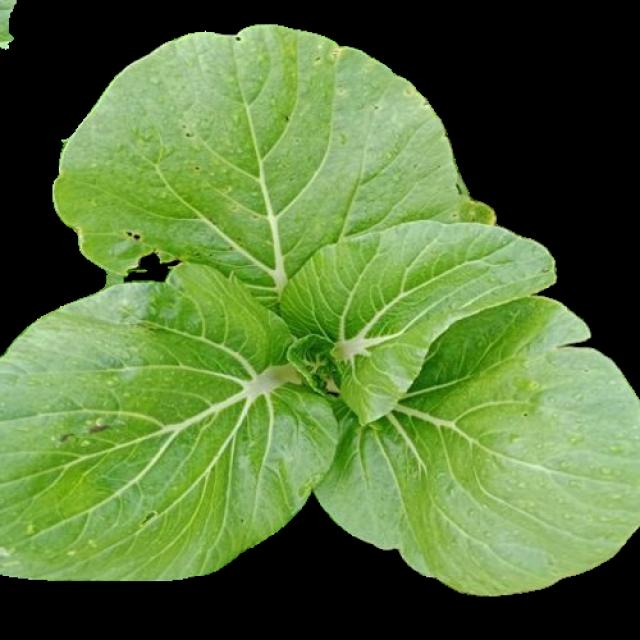mature: (2, 1, 640, 595)
unhealthy: (52, 28, 493, 283), (1, 258, 323, 578)
